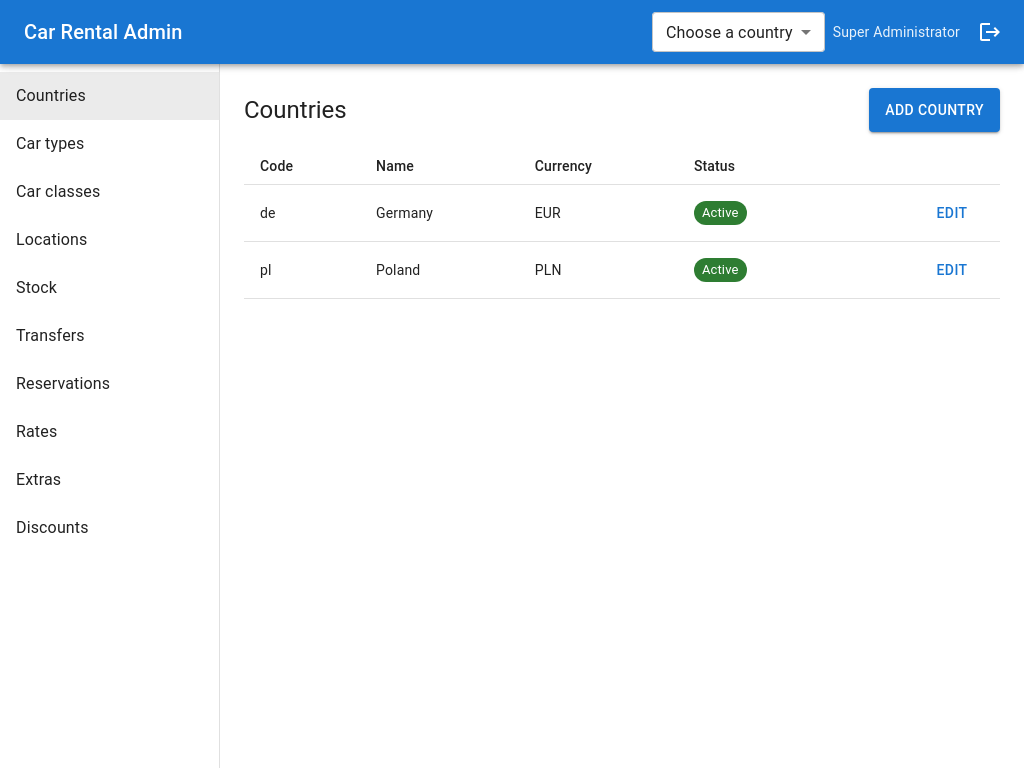
Test: Countries › shows the explanation of the service when saving fails
Click the button "Add country" at point(935, 110), box [869,88,1000,132]
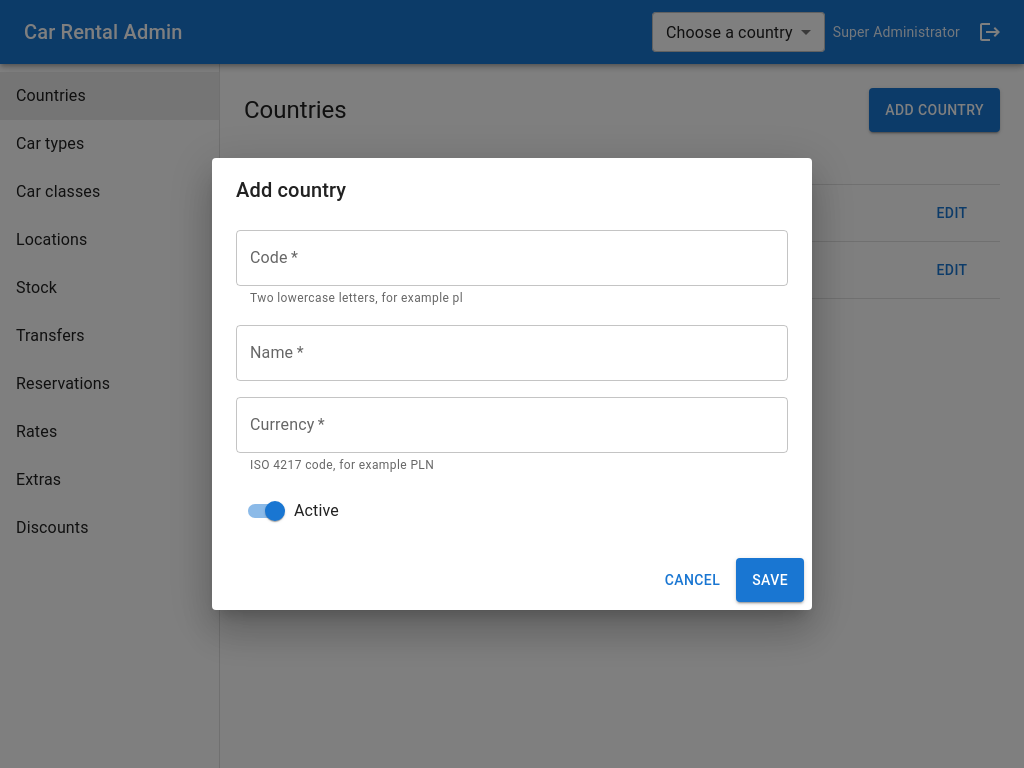
Type "xx" into the field labelled "Code *" at point(512, 258), box [236,230,788,286]
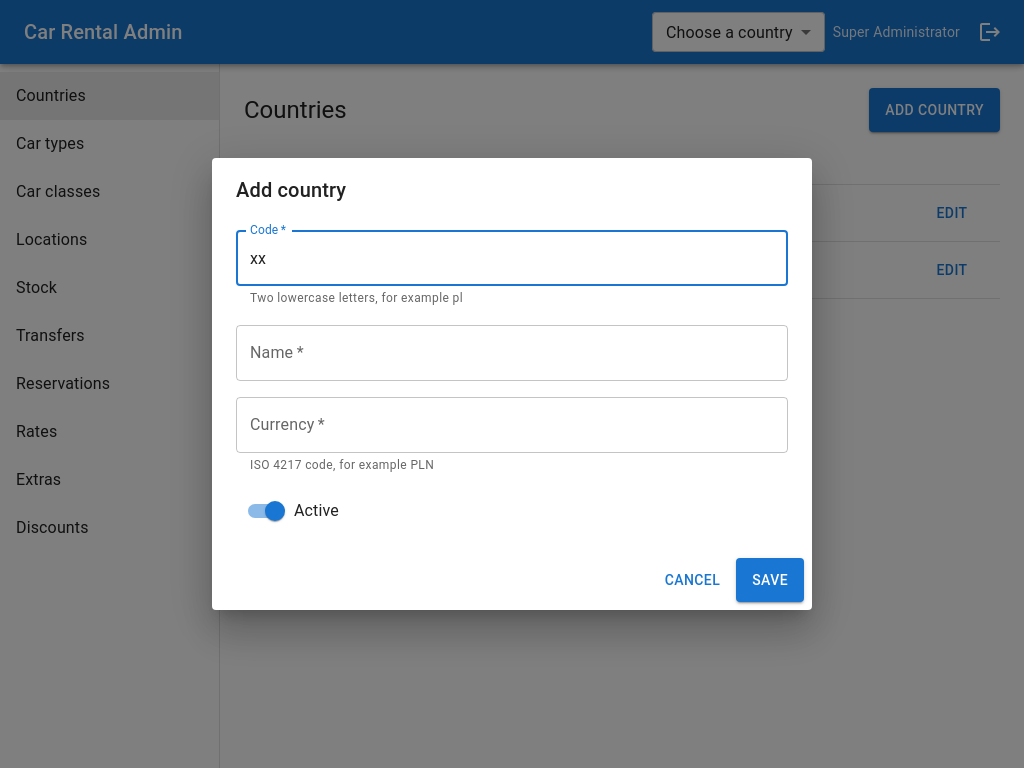
Type "X" into the field labelled "Name *" at point(512, 353), box [236,325,788,381]
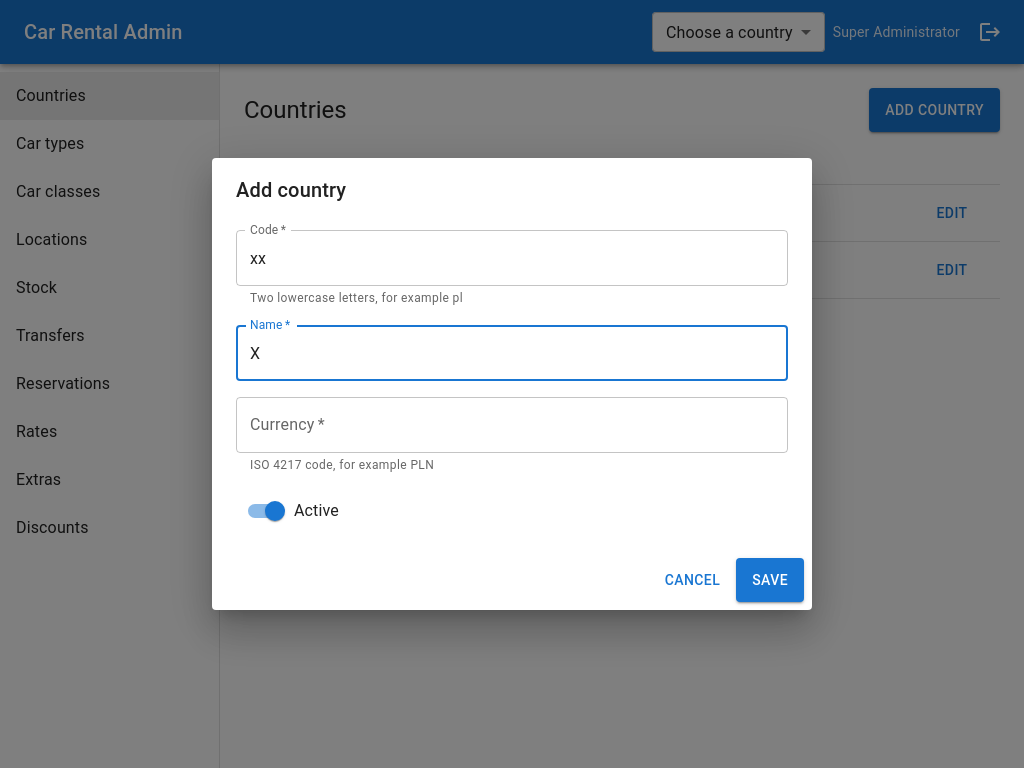
Type "zzz" into the field labelled "Currency *" at point(512, 425), box [236,397,788,453]
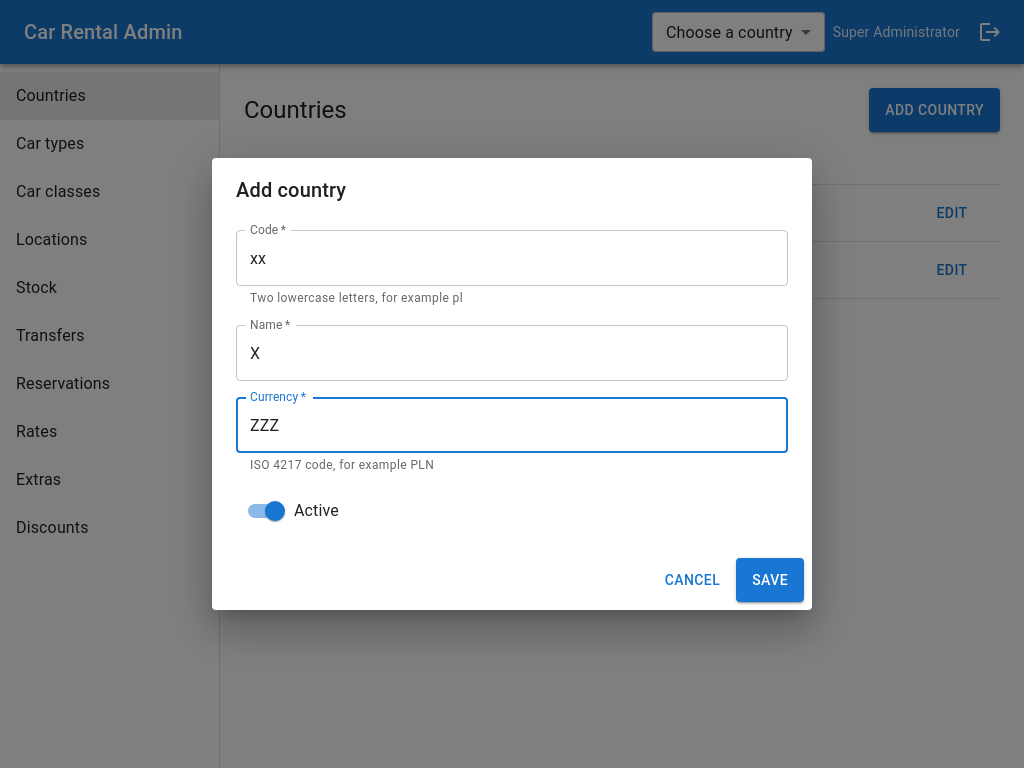
Click the button "Save" at point(770, 580), box [736,558,804,602]
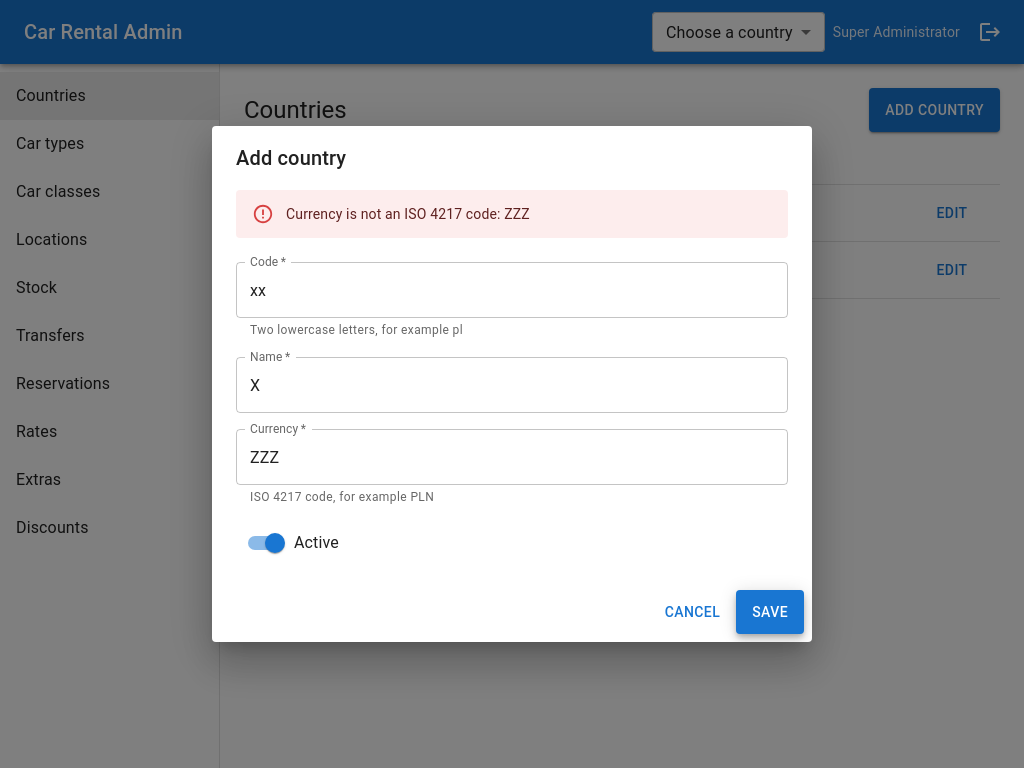
Now the text "Currency is not an ISO 4217 code: ZZZ" is shown, box [286,206,530,222]
